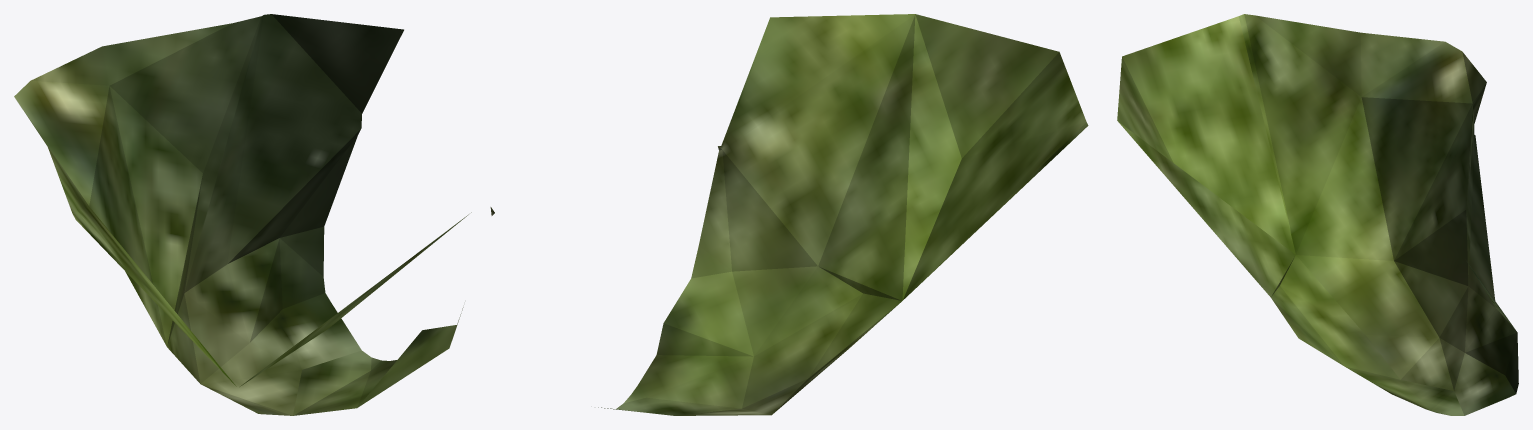
3 renders of one model, left to right at view 1: azimuth 30°, elevation 25°; view 2: azimuth 150°, elevation 25°; view 3: azimuth 270°, elevation 25°, orthographic. The views are drawn at different scales.
Size of the model in its own units: 0.5538 by 0.4274 by 0.6159.
1 material, 1 textured.
